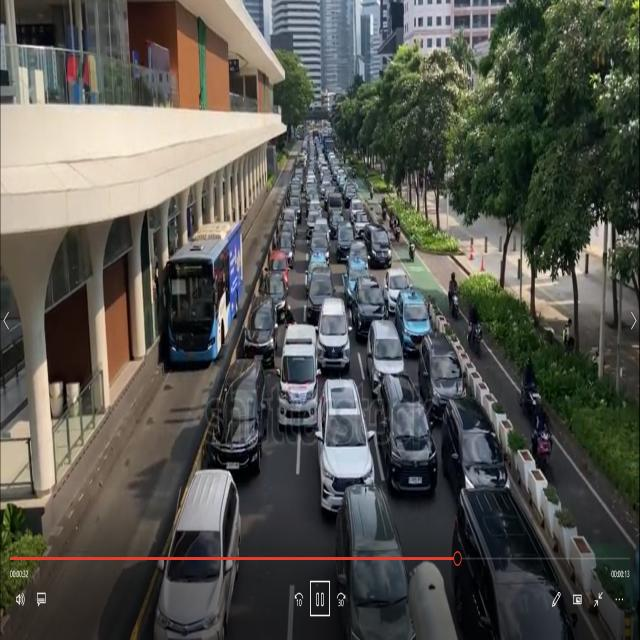Ambulance: (276, 313, 318, 437)
